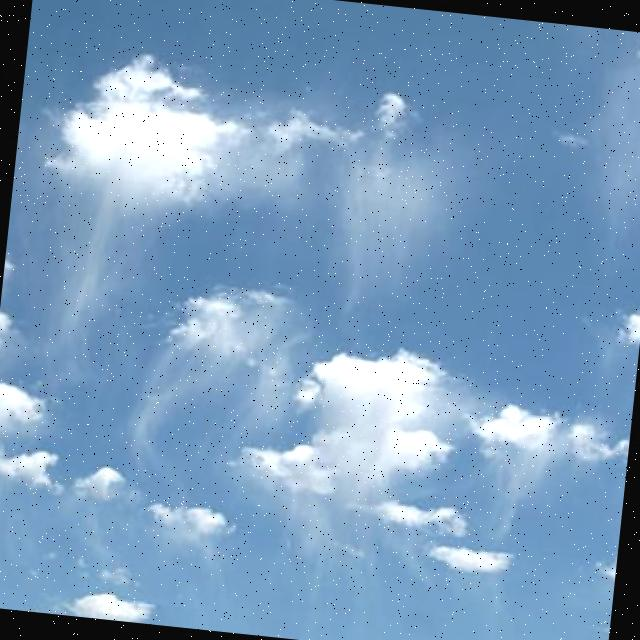Cs: (1, 39, 635, 614)
